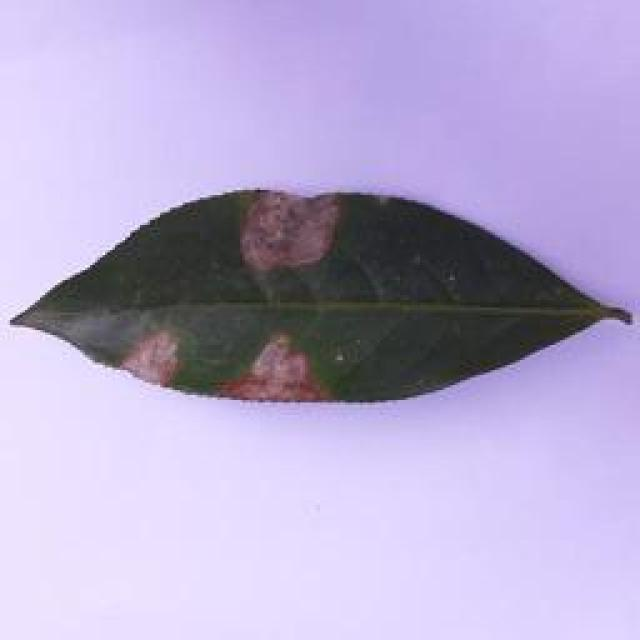Gray Blight: (5, 188, 640, 412)
